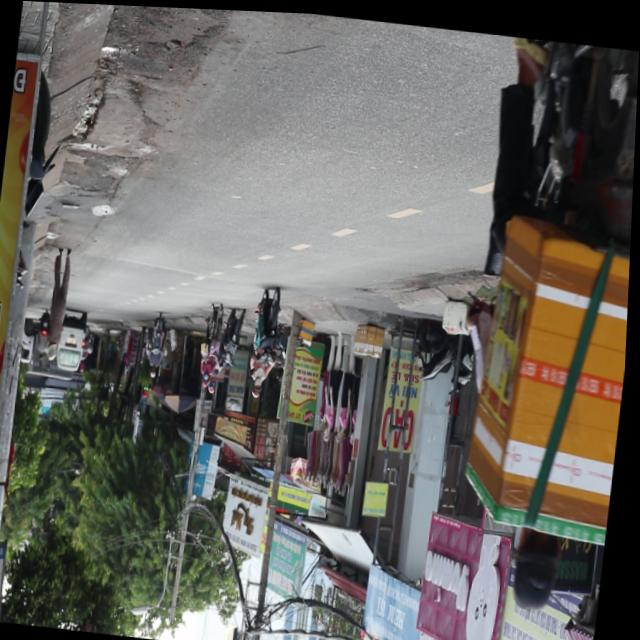licenseplate: (431, 27, 640, 616)
motorcyclist: (512, 518, 570, 608)
